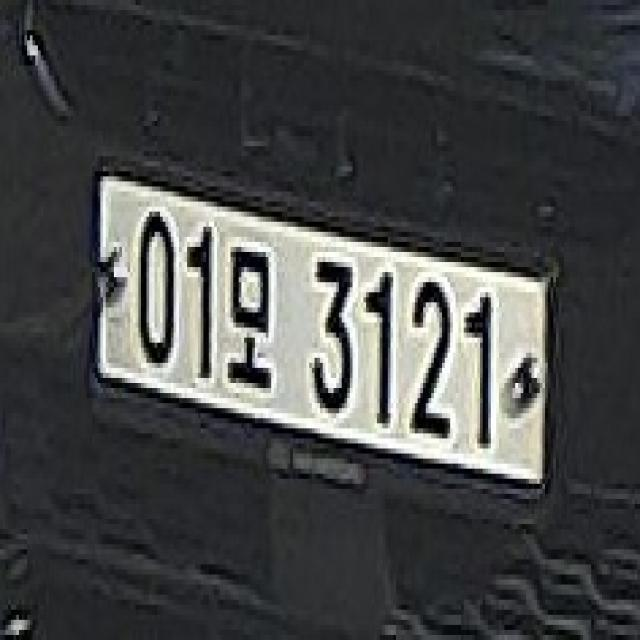0: (136, 200, 180, 380)
1: (462, 280, 502, 458), (364, 264, 396, 438), (185, 216, 217, 386)
2: (408, 272, 460, 444)
3: (305, 244, 358, 423)
license_plate: (91, 153, 563, 513)
mo: (226, 231, 275, 400)
